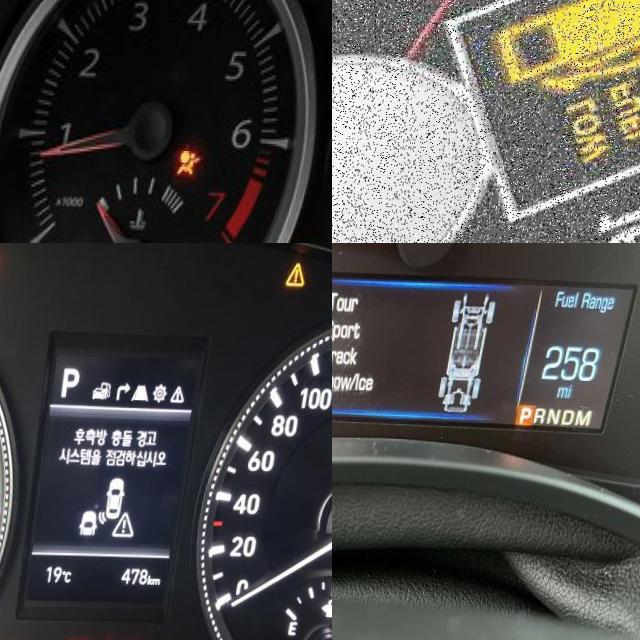Central Warning lamp: (287, 257, 310, 286)
